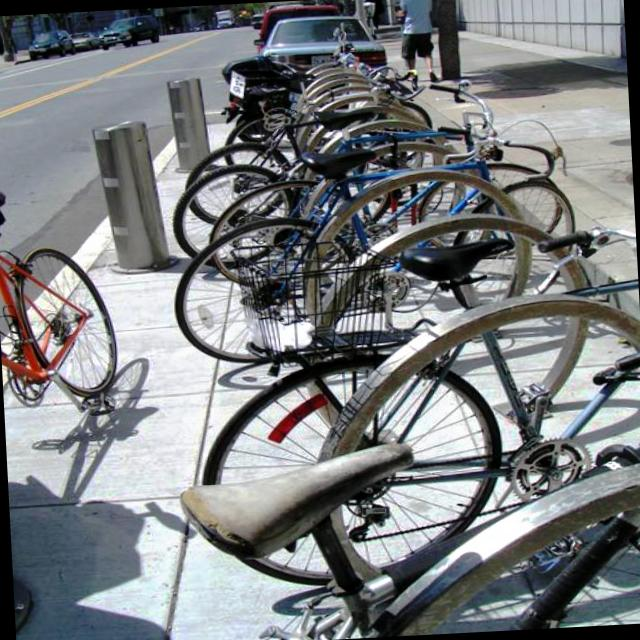bike: (186, 227, 640, 594), (170, 136, 586, 368), (205, 76, 568, 292)
